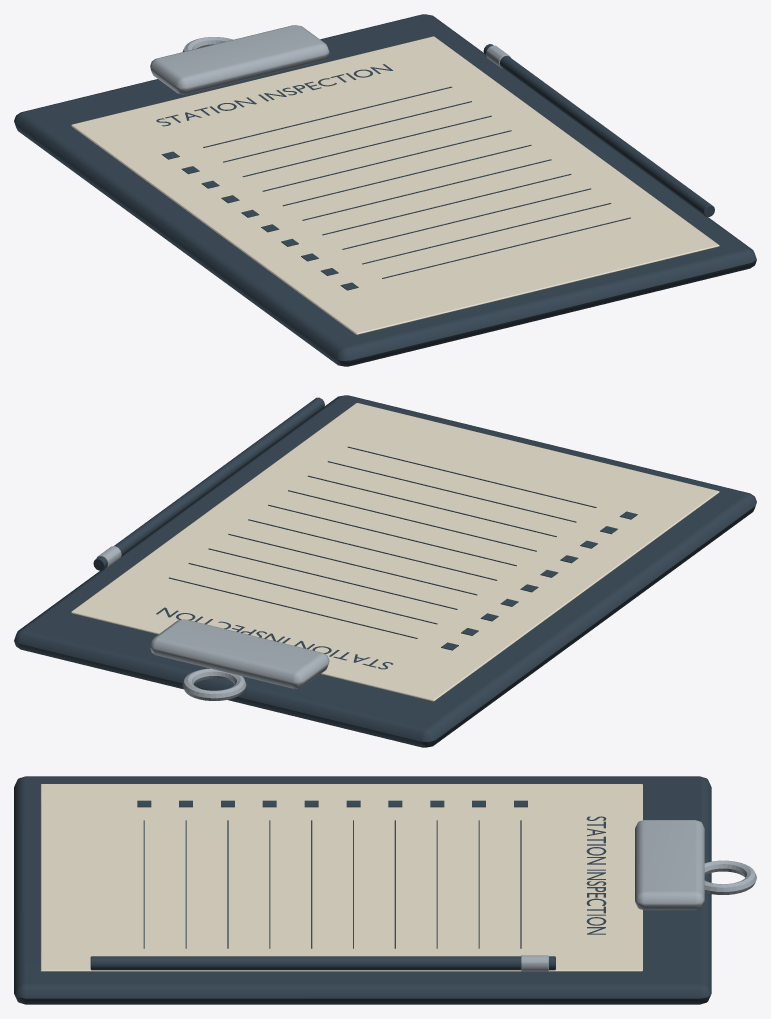
The model's file is InspectionClipboard.fbx.
3 renders of one model, top to bottom at view 1: azimuth 30°, elevation 25°; view 2: azimuth 150°, elevation 25°; view 3: azimuth 270°, elevation 25°, orthographic. The views are drawn at different scales.
Parts seen in each view (by area): view 1: InspectionClipboard.001; view 2: InspectionClipboard.001; view 3: InspectionClipboard.001.
Part boxes in pixels (left/top/right/bottom): InspectionClipboard.001: left=14, top=14, right=756, bottom=366; InspectionClipboard.001: left=14, top=395, right=756, bottom=747; InspectionClipboard.001: left=14, top=776, right=756, bottom=1004.
Size of the model in its own units: 22 by 2.15 by 31.95.
